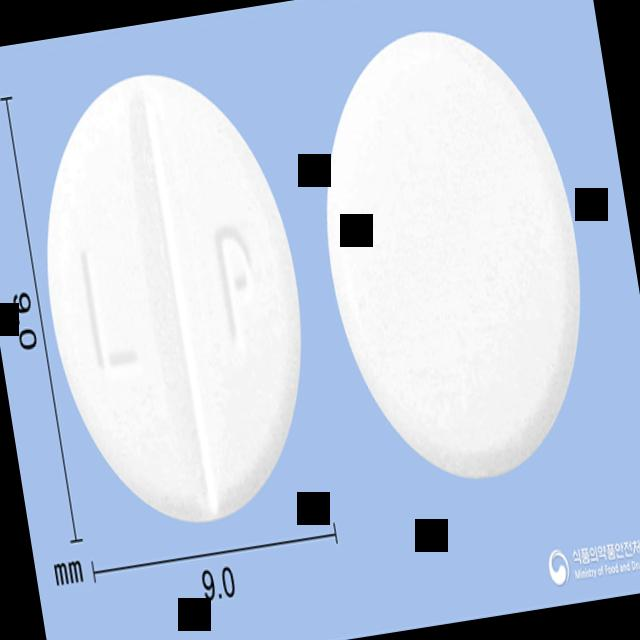Lamisil: (16, 51, 335, 545)
